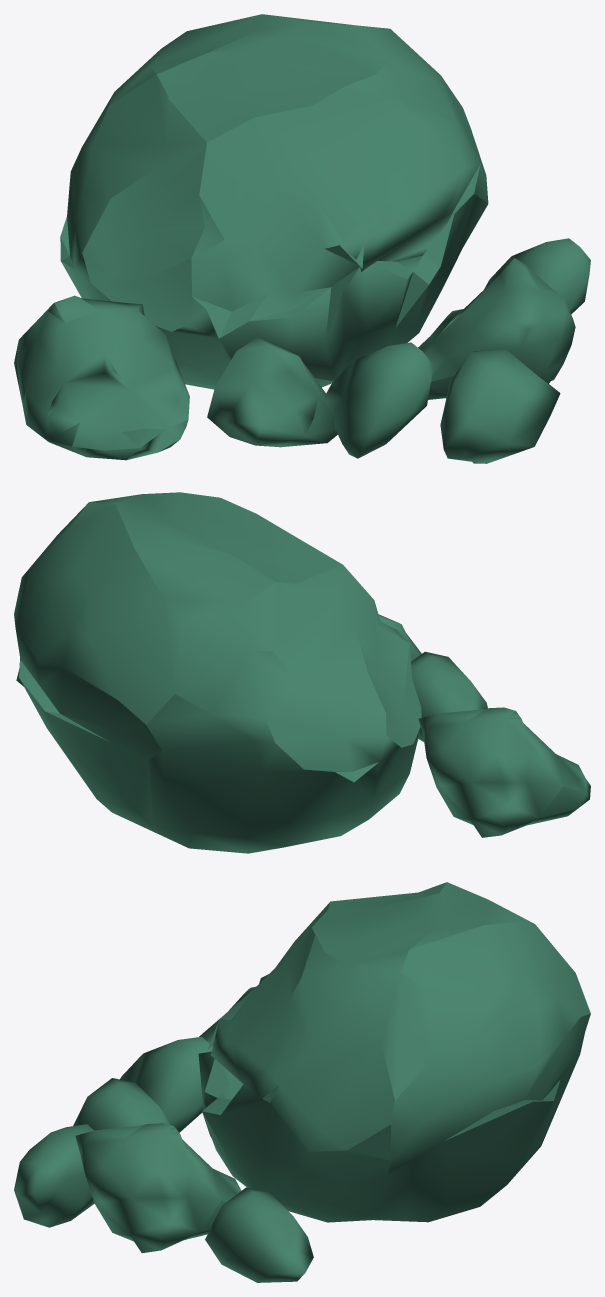
Rendered from ore-copper.glb.
3 views of the same model, one above another, from view 1: azimuth 30°, elevation 25°; view 2: azimuth 150°, elevation 25°; view 3: azimuth 270°, elevation 25° (orthographic).
Visible parts, largest first — view 1: ore-copper-chunk; view 2: ore-copper-chunk; view 3: ore-copper-chunk.
Boxes of the visible parts, <box> form: ore-copper-chunk: <box>14,14,590,463</box>; ore-copper-chunk: <box>14,492,590,853</box>; ore-copper-chunk: <box>14,882,590,1282</box>.
Bounding box in the file's own units: 1.29 × 0.6705 × 1.17.
